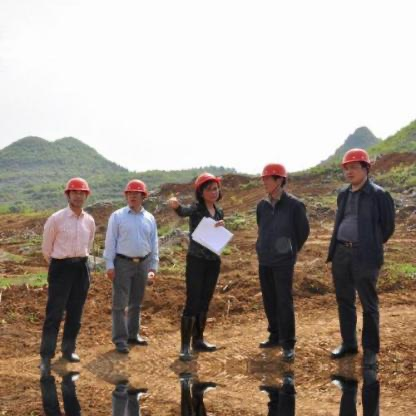Safety Helmet: (339, 146, 373, 187), (190, 170, 223, 208), (258, 161, 290, 199), (121, 177, 152, 214), (61, 175, 91, 212)
